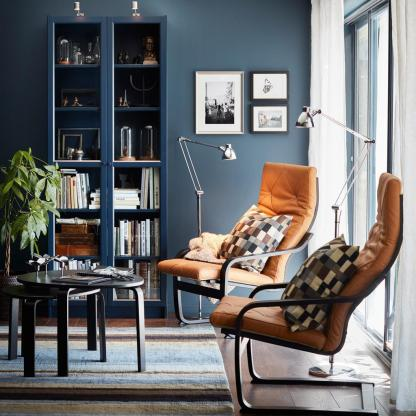Table: (0, 267, 150, 378)
